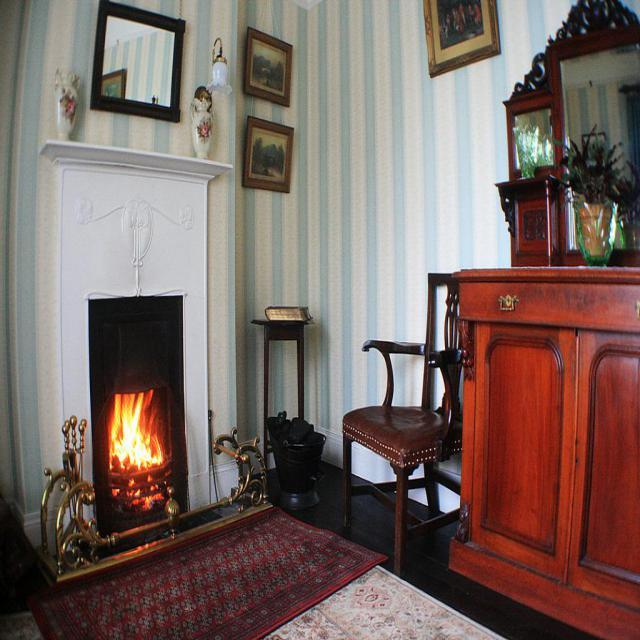Fire: (102, 384, 174, 500)
